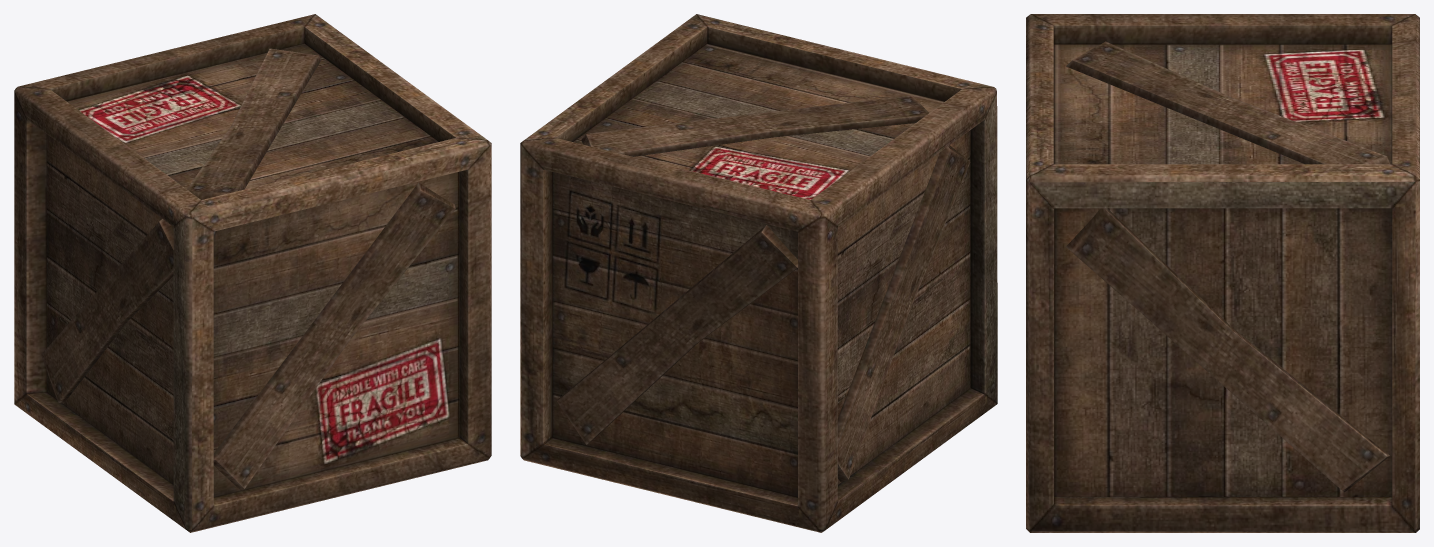
File: crate_box.glb
3 views of the same model, side by side, from view 1: azimuth 30°, elevation 25°; view 2: azimuth 150°, elevation 25°; view 3: azimuth 270°, elevation 25° (orthographic). The views are drawn at different scales.
Parts seen in each view (by area): view 1: crate002_Material #51_0; view 2: crate002_Material #51_0; view 3: crate002_Material #51_0.
Boxes of the visible parts, x1=… form: crate002_Material #51_0: x1=14, y1=14, x2=491, y2=532; crate002_Material #51_0: x1=520, y1=14, x2=997, y2=532; crate002_Material #51_0: x1=1026, y1=14, x2=1419, y2=532.
Bounding box in the file's own units: 60.02 × 60.16 × 60.16.
1 material, 1 textured.
